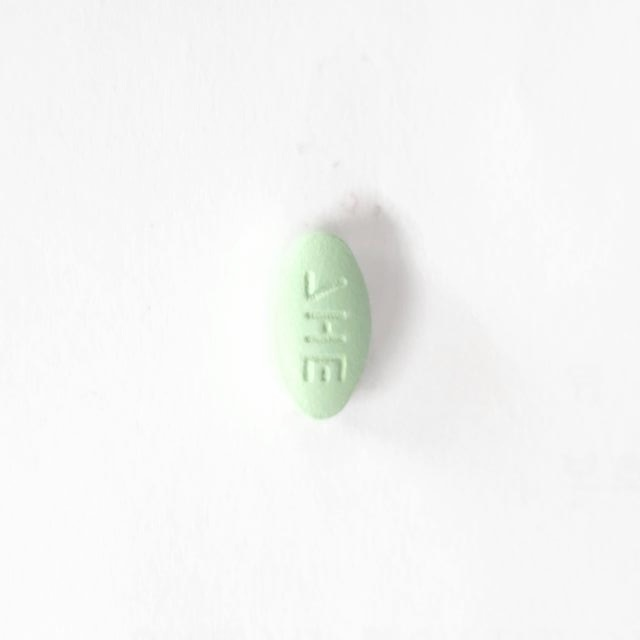pill: (260, 222, 377, 424)
